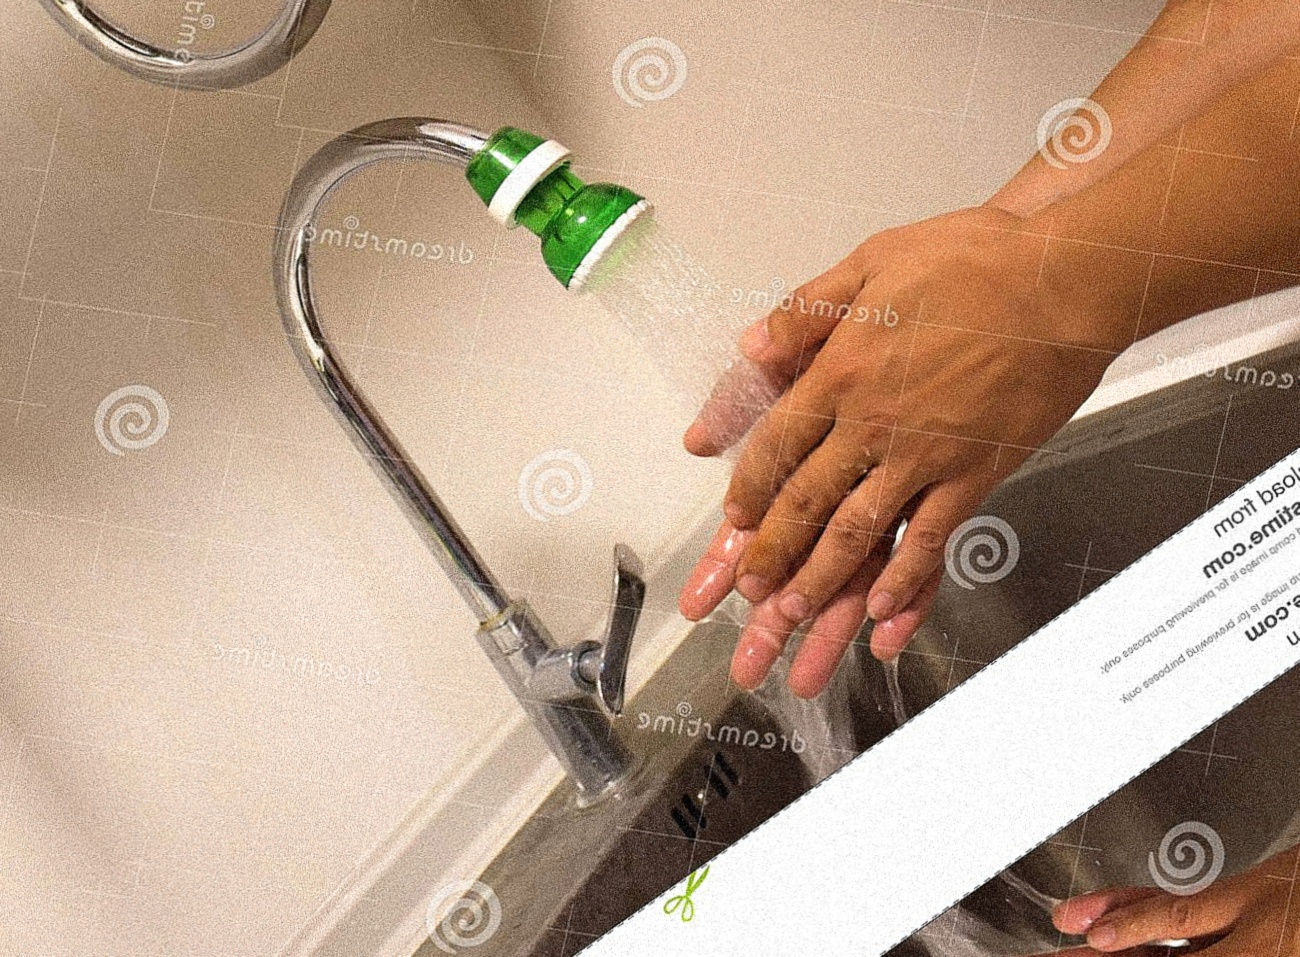washing hand: (175, 0, 1149, 886)
